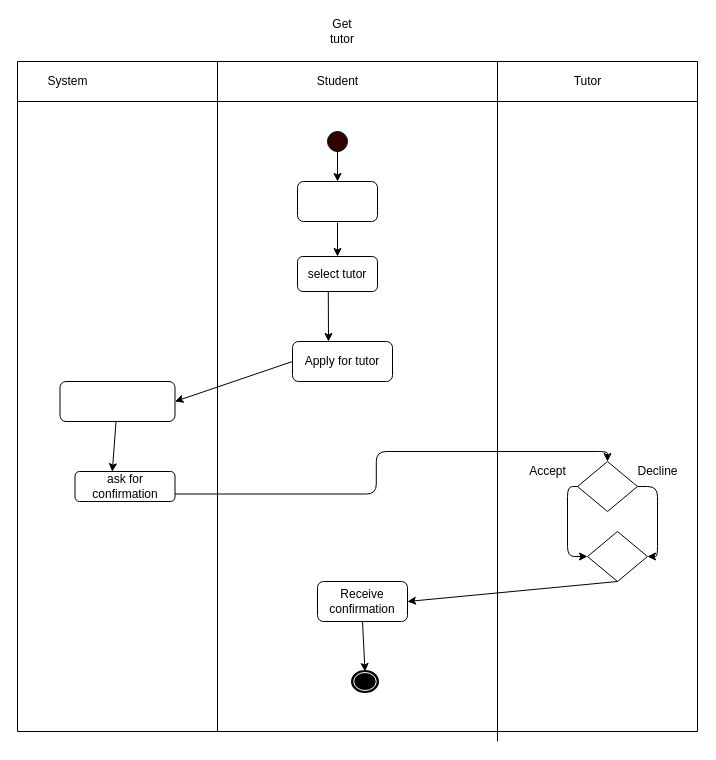
Some shapes in this 716 by 760 pixel diagram are drawn without their labels. The centre of each missing label's shape, as x and y in pixels:
"browse tutor" belongs at point (337, 201).
"Check availability" belongs at point (117, 401).
